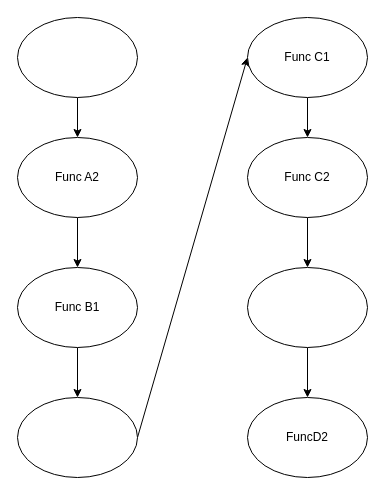
Image size: 385x495. Some labels were removed from this diagram. Each missing label, with the centre of its shape:
Func A1: (77,57)
Func B2: (77,437)
Func D1: (307,307)
